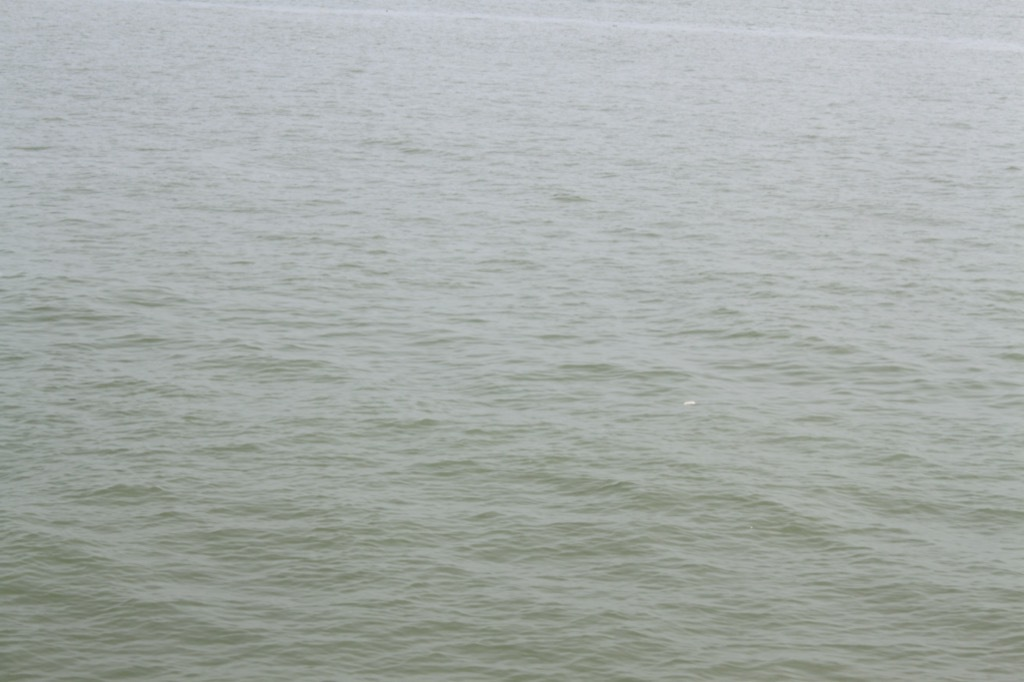plastic: (668, 383, 707, 420)
